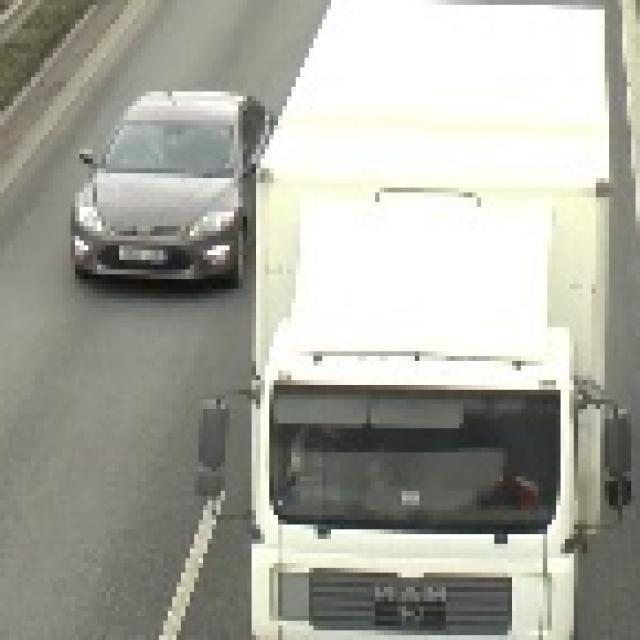truck: (191, 49, 634, 635)
